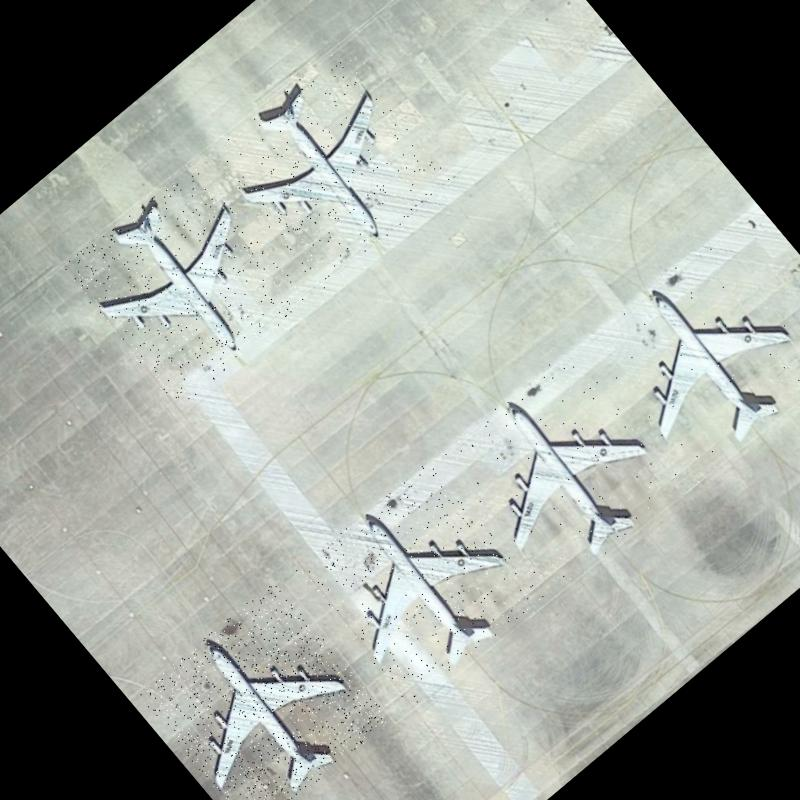A11: (60, 157, 310, 409), (436, 345, 686, 597), (295, 458, 543, 708), (206, 45, 452, 290), (136, 579, 391, 800), (580, 234, 800, 484)
